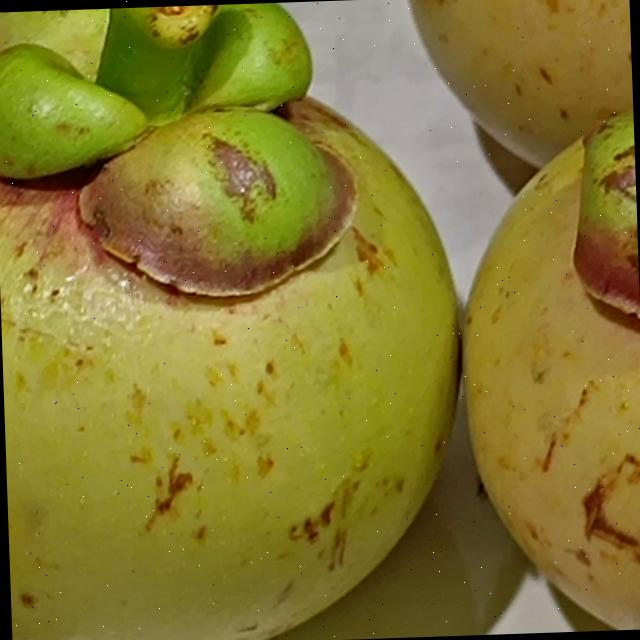mangosteen: (0, 0, 408, 632), (262, 23, 640, 566)
